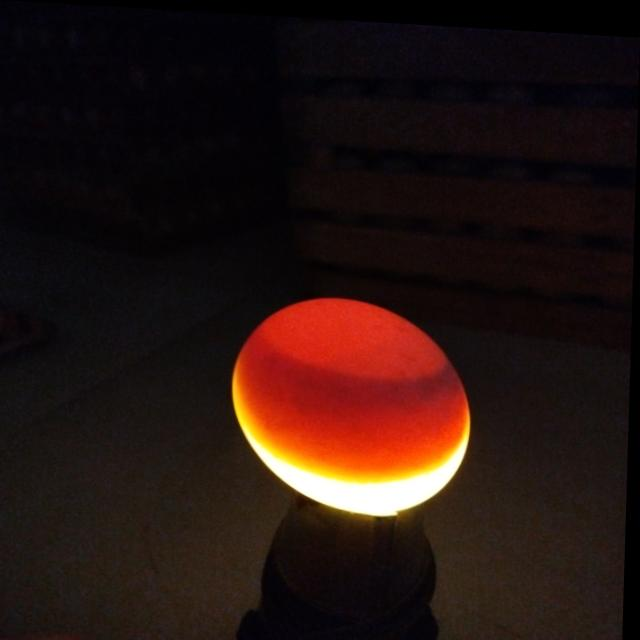Area Infectada: (257, 339, 462, 401)
